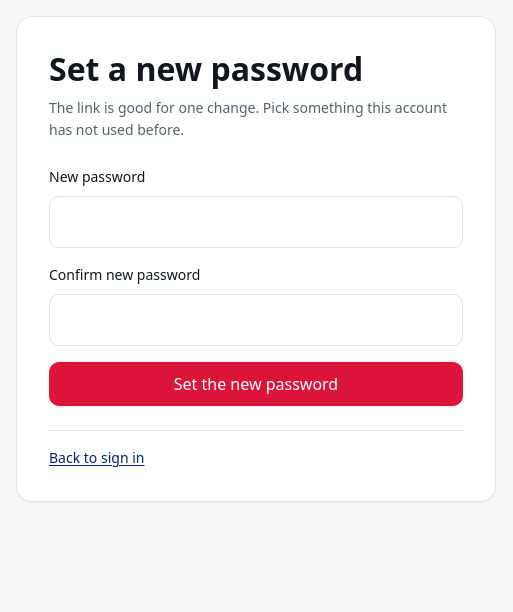
it: ResetPasswordPage › reports a password the policy refused next to the input that holds it
Type "short" into the password field labelled "New password" at {"x": 256, "y": 222}, box left=49, top=196, right=463, bottom=248
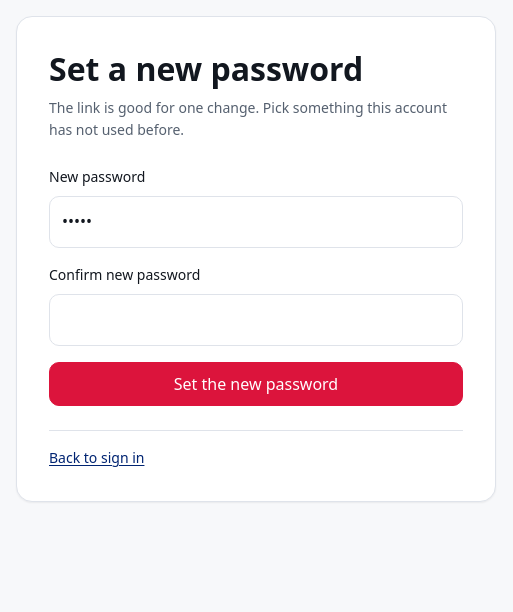
Type "short" into the password field labelled "Confirm new password" at {"x": 256, "y": 320}, box left=49, top=294, right=463, bottom=346
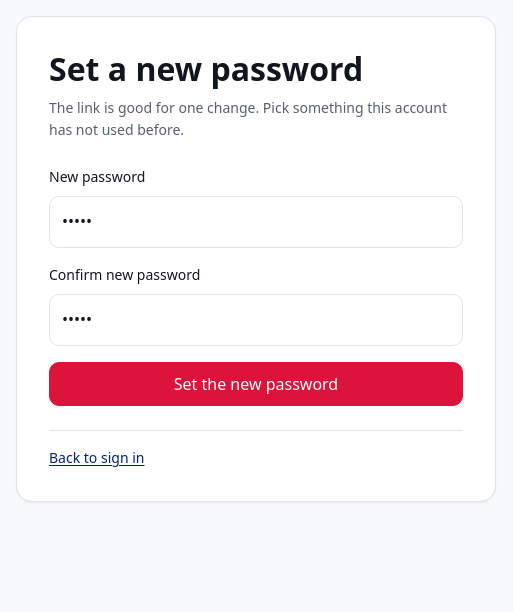
Click the button "Set the new password" at {"x": 256, "y": 384}, box left=49, top=362, right=463, bottom=406
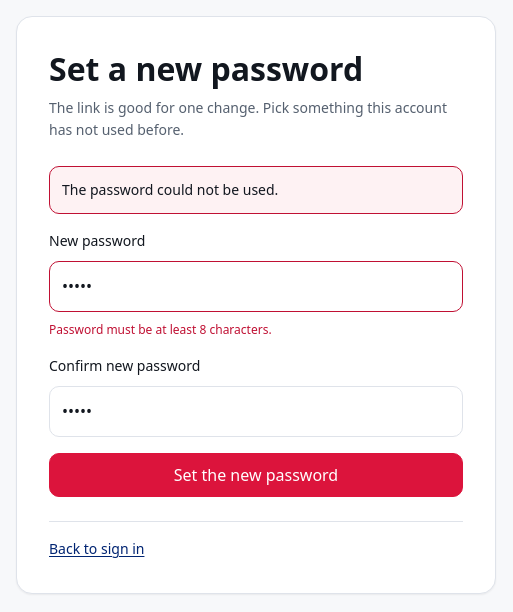
Expected: the button "Set the new password" is shown, left=49, top=453, right=463, bottom=497
Result: the text "Password must be at least 8 characters." is shown at left=49, top=321, right=272, bottom=338
